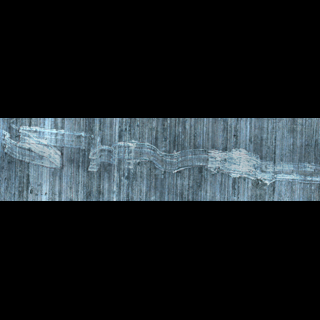d: (2, 123, 320, 189)
